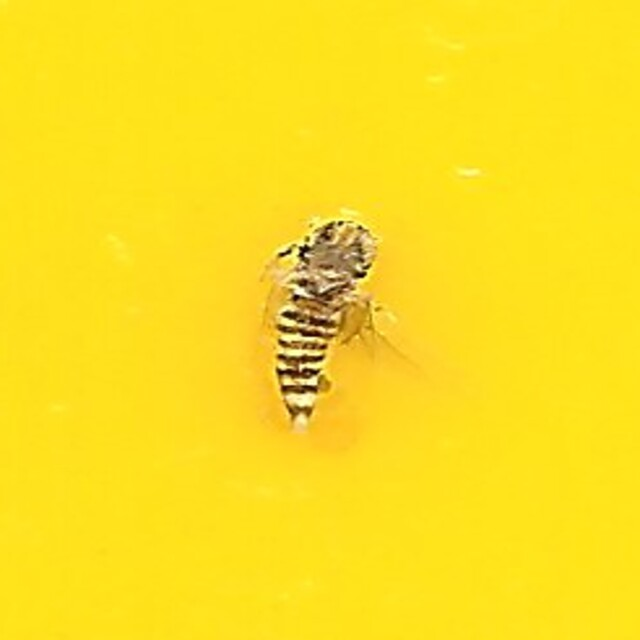Hemiptera: (260, 211, 380, 429)
